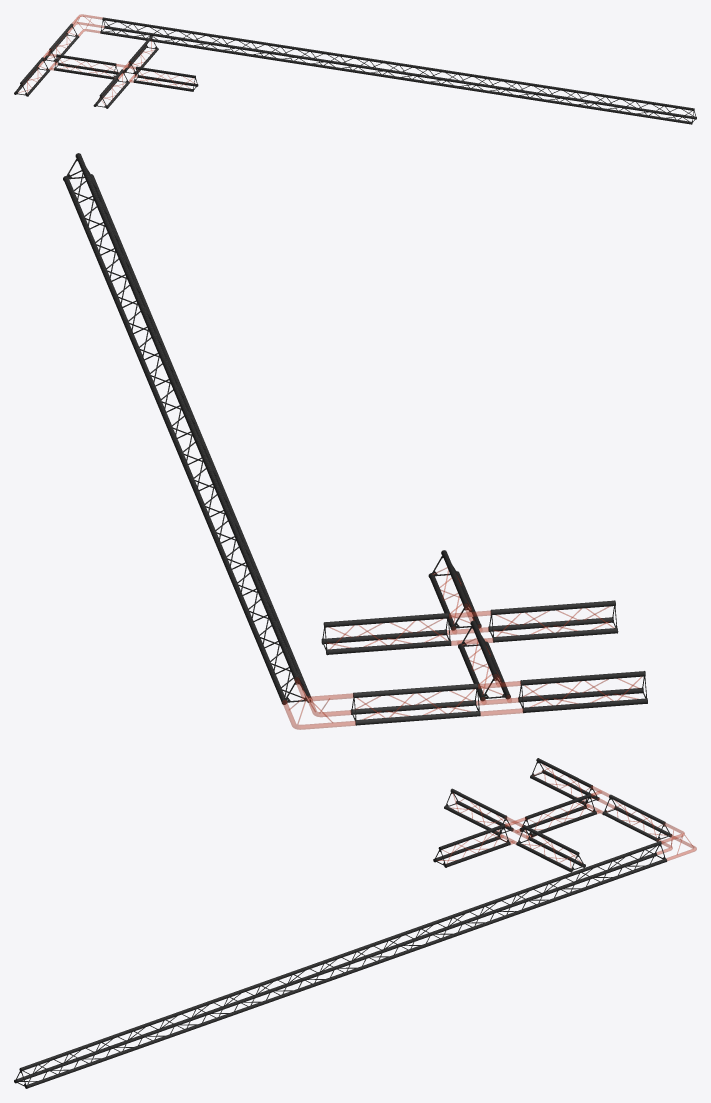
File: beam_astralite.glb
3 views of the same model, one above another, from view 1: azimuth 30°, elevation 25°; view 2: azimuth 150°, elevation 25°; view 3: azimuth 270°, elevation 25° (orthographic). The views are drawn at different scales.
Parts seen in each view (by area): view 1: Beam ASTRALITE girder N060518; view 2: Beam ASTRALITE girder N060518; view 3: Beam ASTRALITE girder N060518.
Part boxes in pixels (x1,y1,x2,y2): Beam ASTRALITE girder N060518: (14, 14, 696, 124); Beam ASTRALITE girder N060518: (63, 153, 647, 729); Beam ASTRALITE girder N060518: (14, 758, 696, 1088).
Bounding box in the file's own units: 9 × 0.2445 × 8.22.
2 materials, 2 textured.
